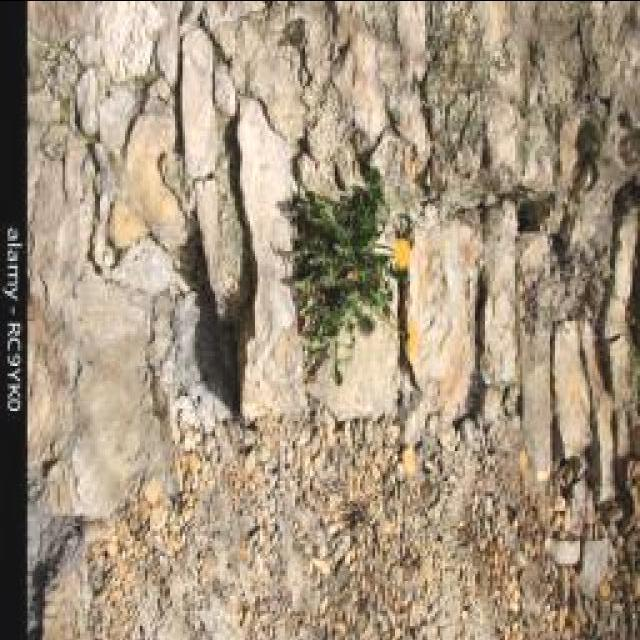Crack: (28, 1, 638, 637)
